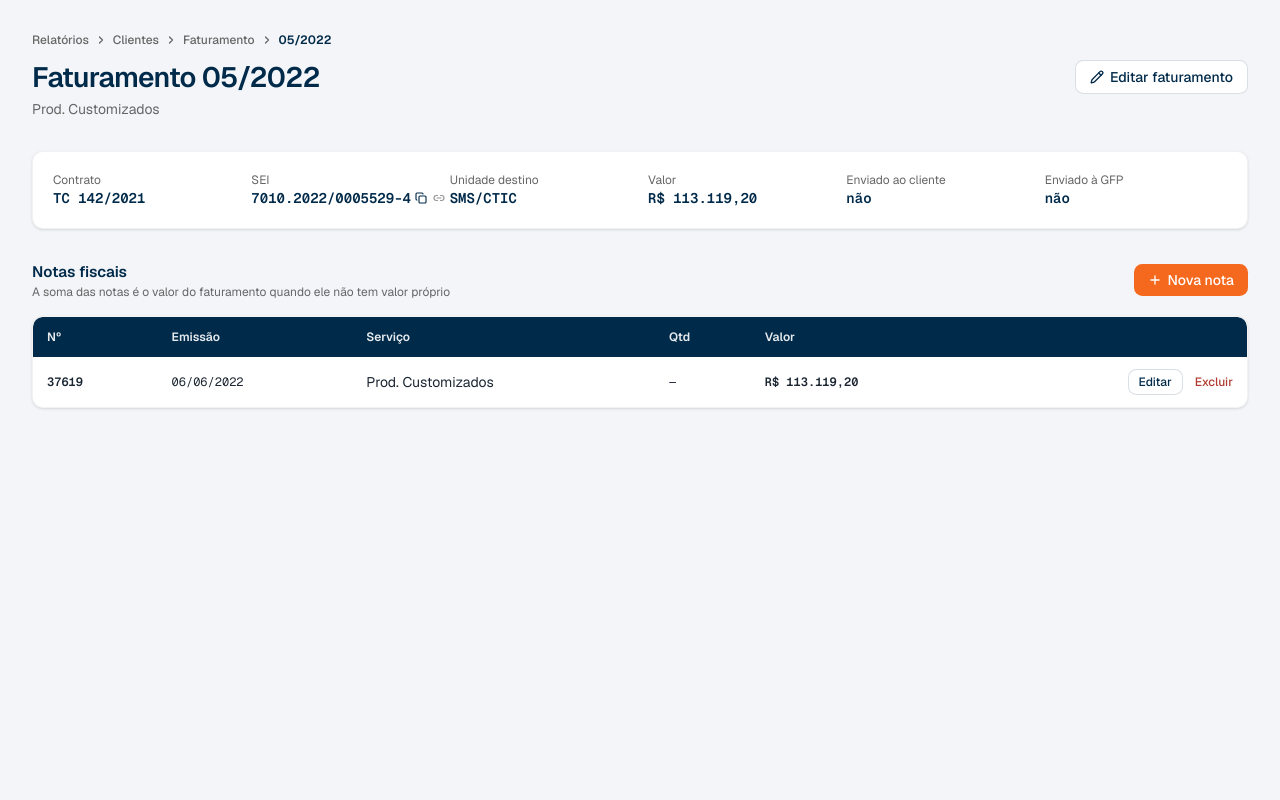
Test case: FaturamentoDetalhePage › mostra o erro da API ao salvar nota
The image size is (1280, 800).
Click the button "Nova nota": coordinates (1191, 280) [1134,264,1248,296]
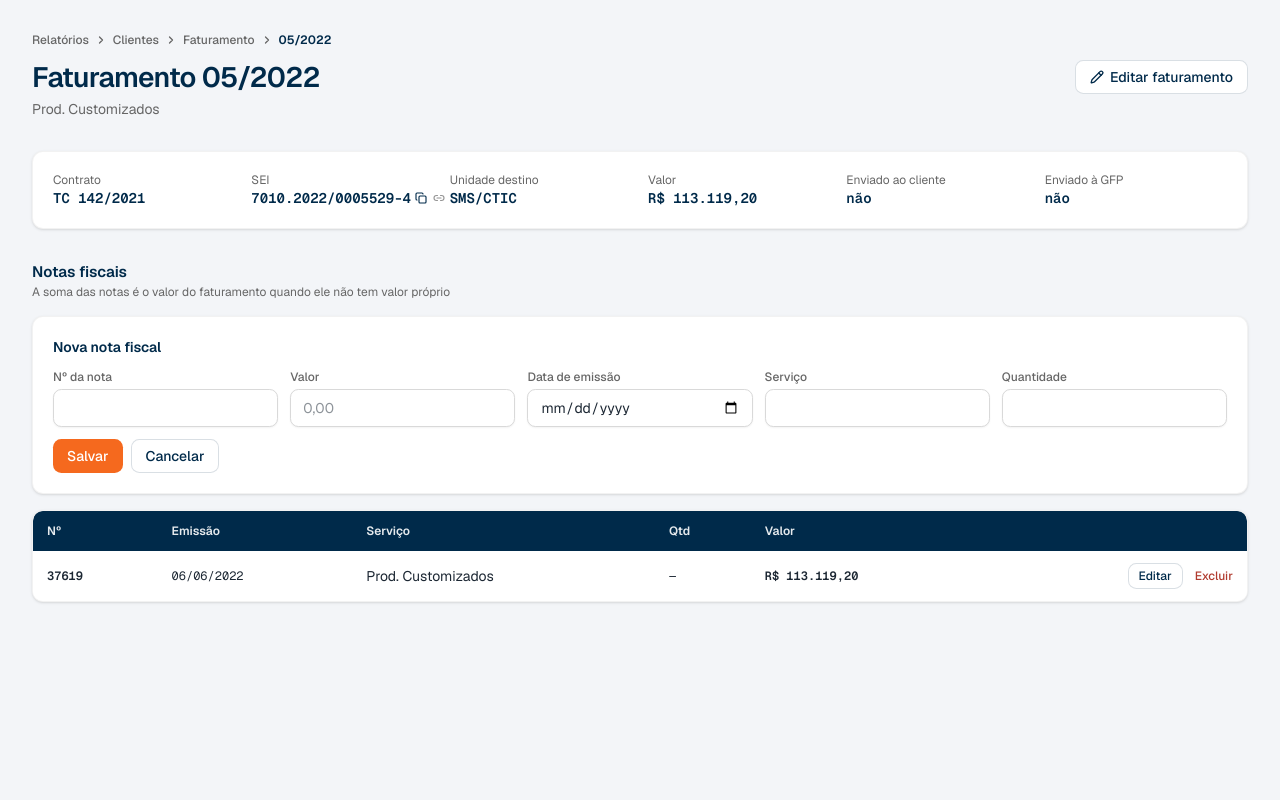
In the field labelled "Valor": coordinates (403, 408) [290,389,515,427], type "-1"
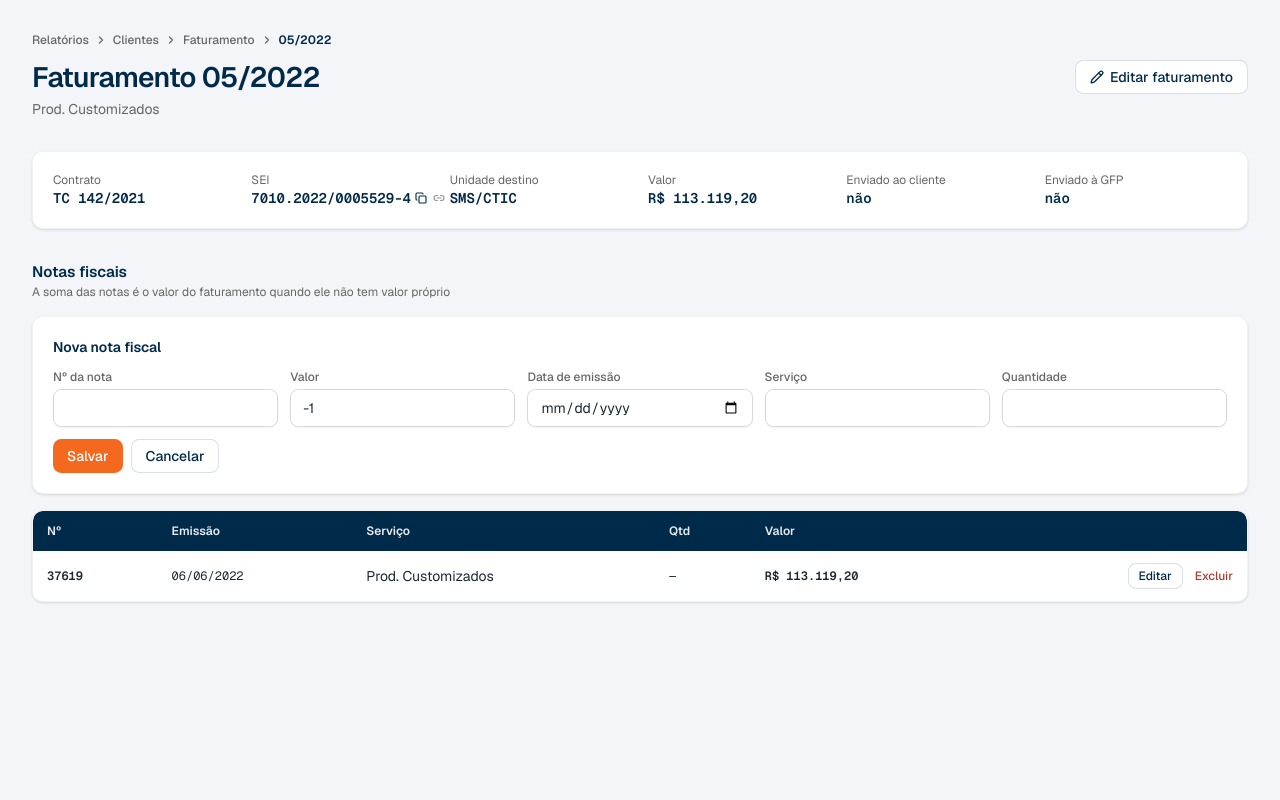
Click the button "Salvar": coordinates (88, 456) [53,439,122,473]
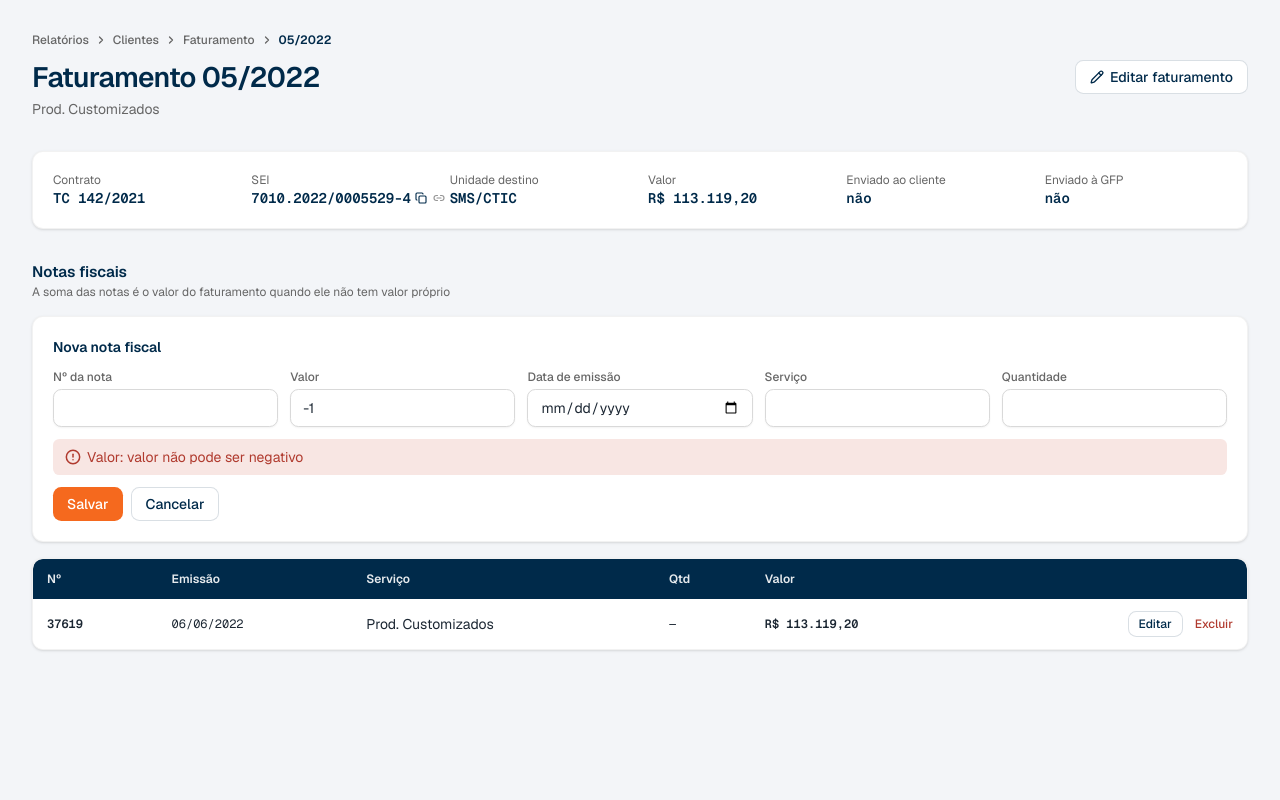
expect the text "Valor: valor não pode ser negativo" is shown: met, box [53,439,1227,475]
